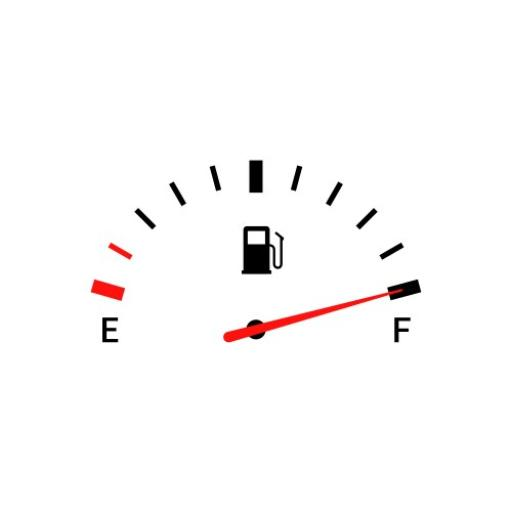empty: (98, 312, 122, 346)
fuel_icon: (241, 221, 284, 276)
full: (389, 312, 416, 344)
guage_area: (78, 154, 433, 372), (369, 287, 411, 306)
needle_center: (239, 315, 270, 348)
